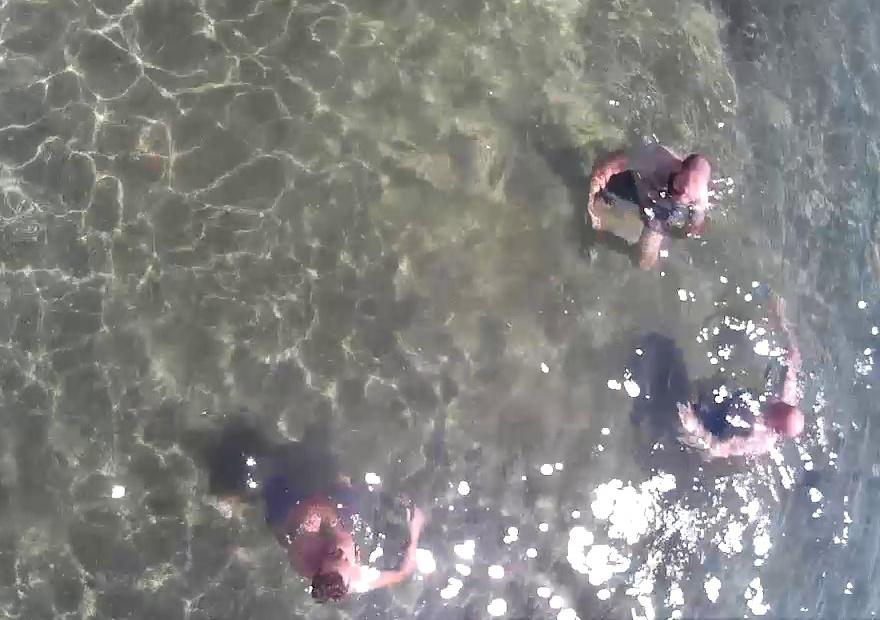swimmer: (218, 445, 428, 617), (576, 92, 718, 270), (683, 300, 815, 473)
